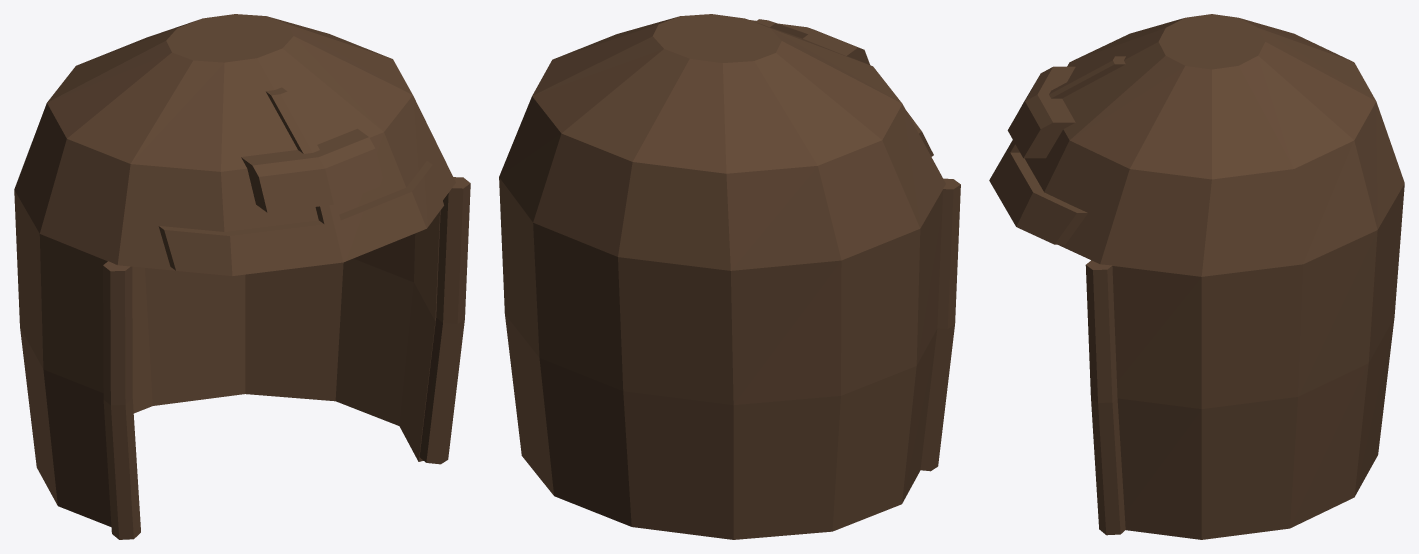
The model's file is leather_head-male-thickHide.glb.
3 renders of one model, left to right at view 1: azimuth 30°, elevation 25°; view 2: azimuth 150°, elevation 25°; view 3: azimuth 270°, elevation 25°, orthographic. The views are drawn at different scales.
Visible parts, largest first — view 1: leather joined crown and nape guard, Fitted brow binding, Bound face opening -1, Bound face opening 1, Heavy hide binding leather joined crown and nape guard, Cap crown sewn seam; view 2: leather joined crown and nape guard, Bound face opening -1, Heavy hide binding leather joined crown and nape guard; view 3: leather joined crown and nape guard, Bound face opening 1, Fitted brow binding, Heavy hide binding leather joined crown and nape guard, Cap crown sewn seam.
Boxes of the visible parts, left/top/right/bottom form: leather joined crown and nape guard: left=14, top=14, right=455, bottom=527; Fitted brow binding: left=158, top=161, right=443, bottom=275; Bound face opening -1: left=103, top=261, right=140, bottom=539; Bound face opening 1: left=419, top=177, right=470, bottom=464; Heavy hide binding leather joined crown and nape guard: left=241, top=128, right=384, bottom=212; Cap crown sewn seam: left=266, top=87, right=340, bottom=224; leather joined crown and nape guard: left=499, top=14, right=945, bottom=539; Bound face opening -1: left=920, top=178, right=960, bottom=471; Heavy hide binding leather joined crown and nape guard: left=750, top=20, right=869, bottom=64; leather joined crown and nape guard: left=1024, top=14, right=1404, bottom=539; Bound face opening 1: left=1085, top=260, right=1125, bottom=535; Fitted brow binding: left=989, top=140, right=1087, bottom=244; Heavy hide binding leather joined crown and nape guard: left=1007, top=66, right=1075, bottom=158; Cap crown sewn seam: left=1008, top=56, right=1125, bottom=152.
Size of the model in its own units: 1.08 by 1.12 by 1.01.
